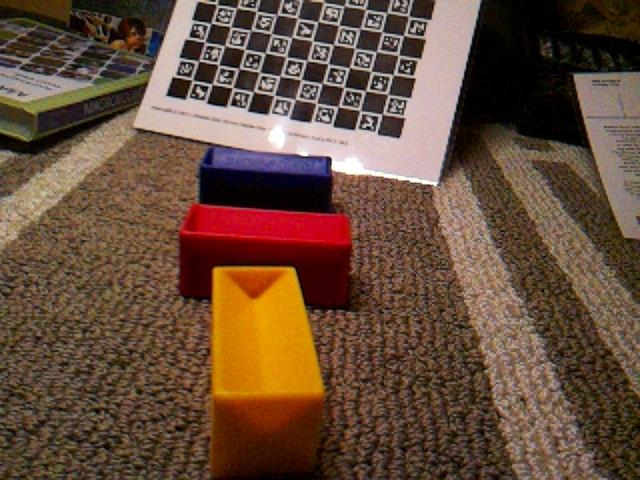blue: (197, 145, 335, 212)
red: (177, 201, 354, 309)
yellow: (208, 264, 327, 479)
